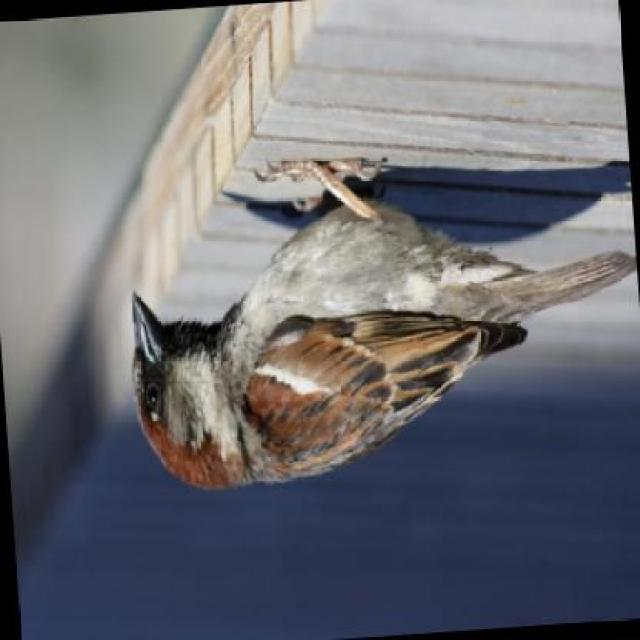Bird: (122, 150, 640, 506)
